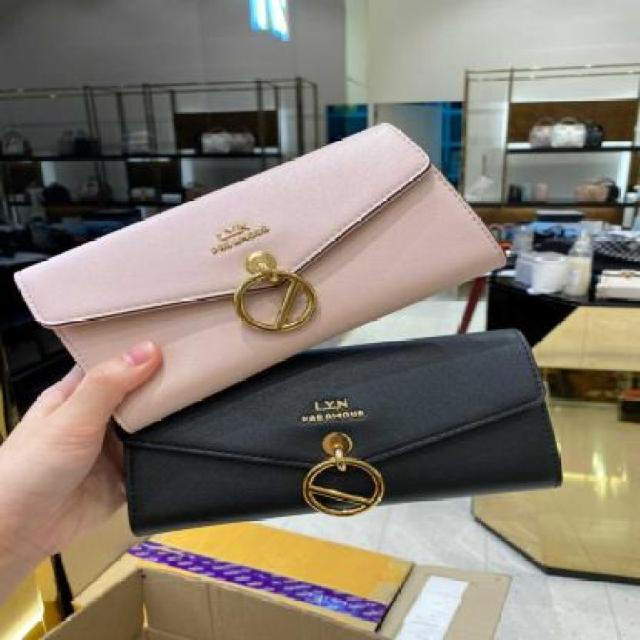Bag: (2, 111, 558, 447), (108, 309, 580, 551)
